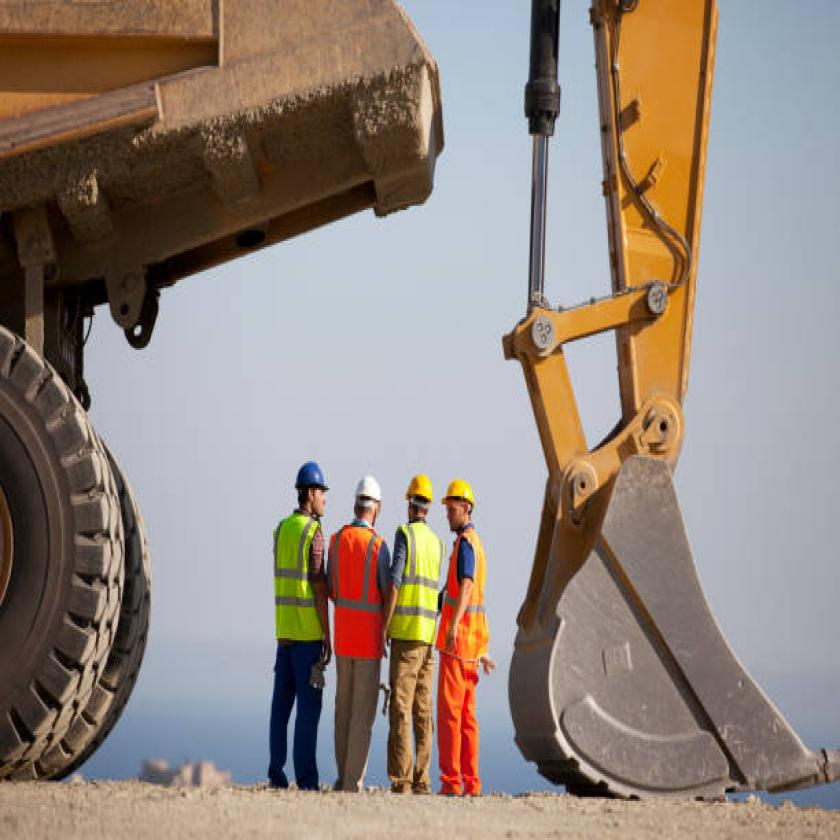Con_casco: (289, 440, 331, 532), (347, 457, 384, 544), (444, 472, 487, 537), (401, 467, 436, 532)
